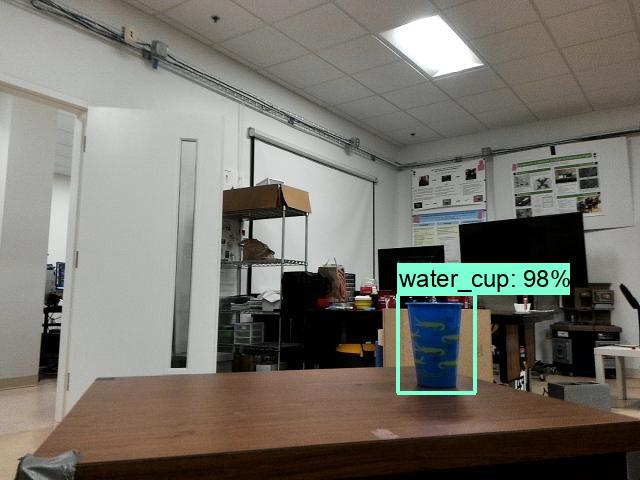water_cup: (400, 292, 472, 390)
